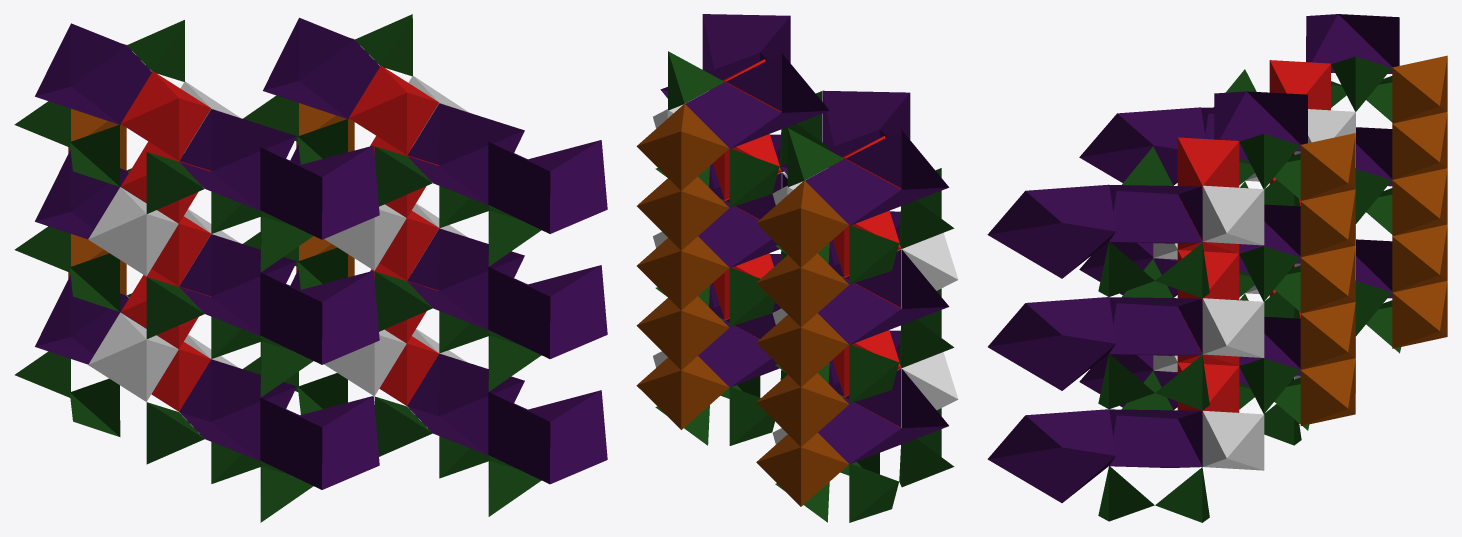
The model's file is Epidoto.obj.
3 renders of one model, left to right at view 1: azimuth 30°, elevation 25°; view 2: azimuth 150°, elevation 25°; view 3: azimuth 270°, elevation 25°, orthographic. The views are drawn at different scales.
Parts seen in each view (by area): view 1: Epidoto_Solid.109_A_site, Epidoto_Solid.109_tetraedros, Epidoto_Solid.109_Coordenacao6, Epidoto_Solid.109_Site_M3, Epidoto_Solid.109_Site_M4; view 2: Epidoto_Solid.109_A_site, Epidoto_Solid.109_Site_M4, Epidoto_Solid.109_tetraedros, Epidoto_Solid.109_Coordenacao6, Epidoto_Solid.109_Site_M3; view 3: Epidoto_Solid.109_A_site, Epidoto_Solid.109_Site_M4, Epidoto_Solid.109_tetraedros, Epidoto_Solid.109_Site_M3, Epidoto_Solid.109_Coordenacao6.
Part boxes in pixels (<box>): Epidoto_Solid.109_A_site: <box>35,17,607,489</box>; Epidoto_Solid.109_tetraedros: <box>14,14,541,522</box>; Epidoto_Solid.109_Coordenacao6: <box>121,65,438,411</box>; Epidoto_Solid.109_Site_M3: <box>88,76,468,401</box>; Epidoto_Solid.109_Site_M4: <box>68,38,354,295</box>; Epidoto_Solid.109_A_site: <box>660,14,949,463</box>; Epidoto_Solid.109_Site_M4: <box>636,103,848,506</box>; Epidoto_Solid.109_tetraedros: <box>655,51,954,522</box>; Epidoto_Solid.109_Coordenacao6: <box>713,59,901,427</box>; Epidoto_Solid.109_Site_M3: <box>653,91,958,444</box>; Epidoto_Solid.109_A_site: <box>987,14,1399,502</box>; Epidoto_Solid.109_Site_M4: <box>1300,55,1447,425</box>; Epidoto_Solid.109_tetraedros: <box>1098,56,1401,522</box>; Epidoto_Solid.109_Site_M3: <box>1153,109,1355,470</box>; Epidoto_Solid.109_Coordenacao6: <box>1177,60,1330,415</box>.
Size of the model in its own units: 0.9742 by 0.9868 by 1.05.
